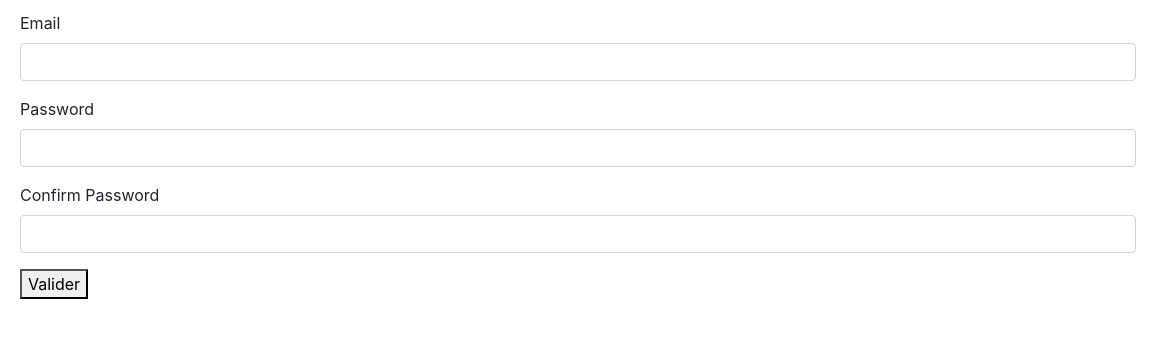
it: La mdp fait il plus de 5 caractères
This screenshot has width=1157, height=356.
Expected: the text "le mot de passe doit contenir au moins 5 caractères" is not shown
Type "test@gmail.com" into the field labelled "Email". click: coordinates (578, 62)
box: 20,43 -> 1136,81
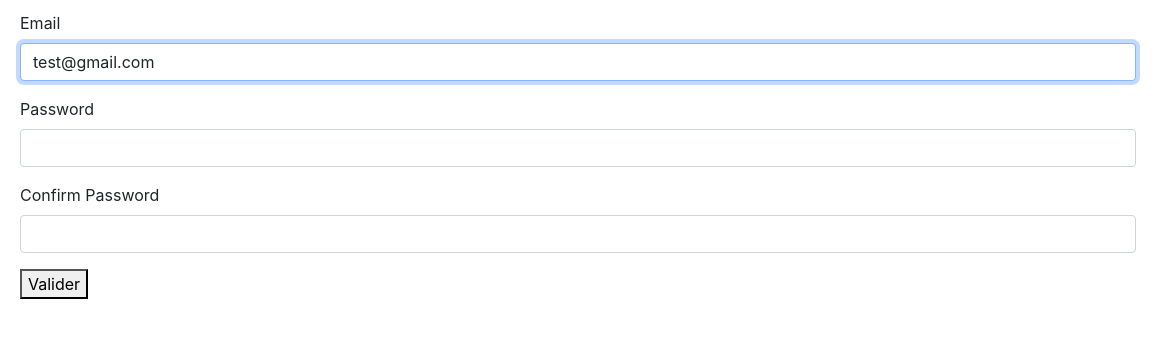
Type "test" into the password field labelled "Confirm Password". click: coordinates (578, 234)
box: 20,215 -> 1136,253
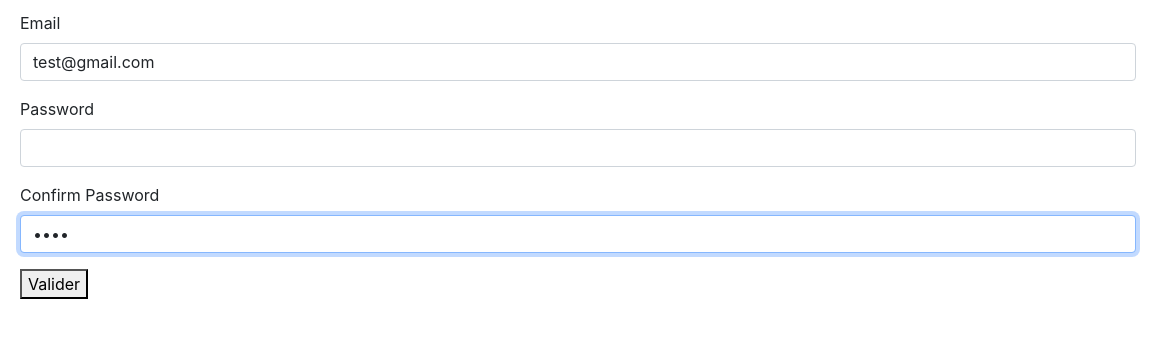
Click the button "Valider". click: coordinates (54, 284)
box: 20,269 -> 88,299
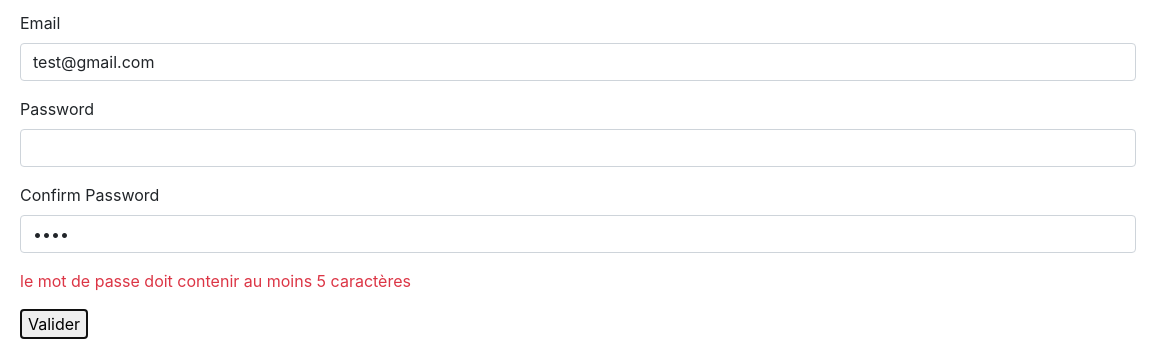
Expected: the text "le mot de passe doit contenir au moins 5 caractères" is shown, 20,271 -> 411,291
